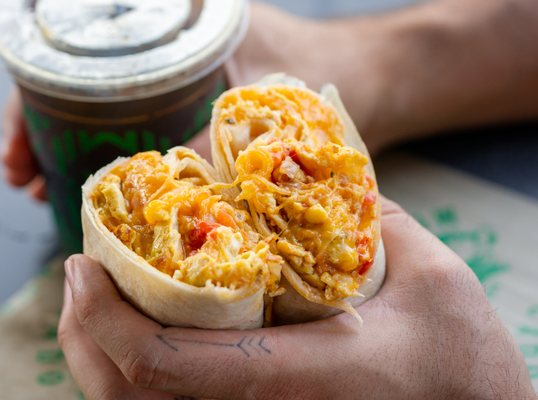curry: (1, 3, 537, 390)
